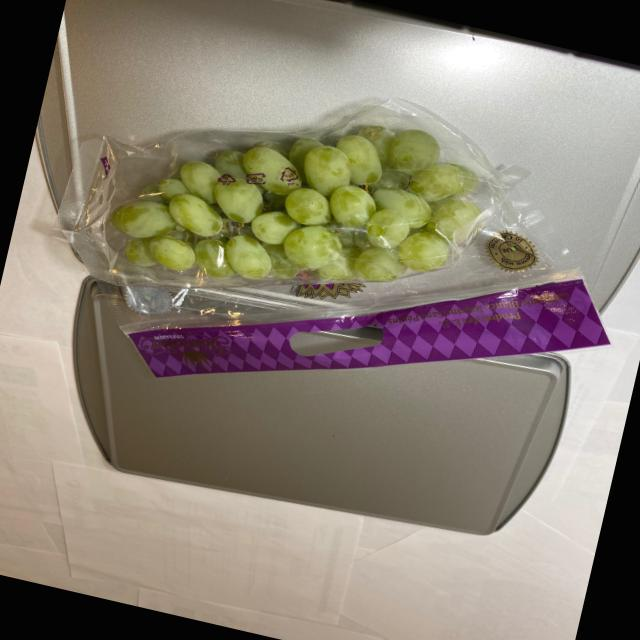grapes: (78, 68, 489, 351)
